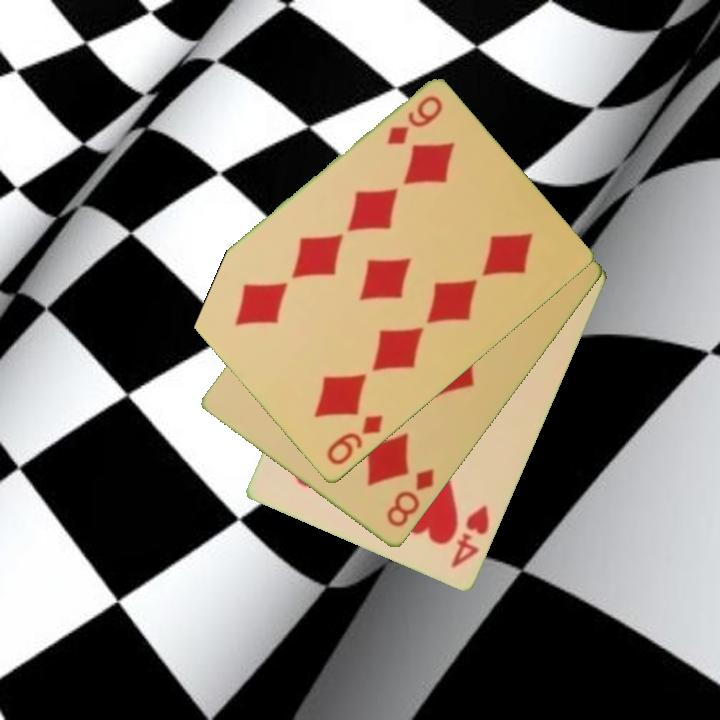4h: (447, 502, 493, 572)
8d: (383, 465, 437, 531)
9d: (323, 411, 386, 469), (383, 92, 446, 149)
